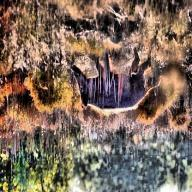boar: (62, 53, 160, 120)
